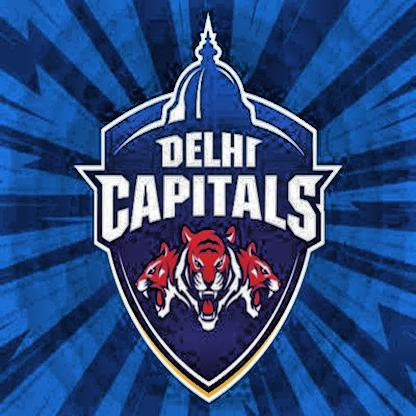Delhi Capitals: (73, 13, 344, 406)
